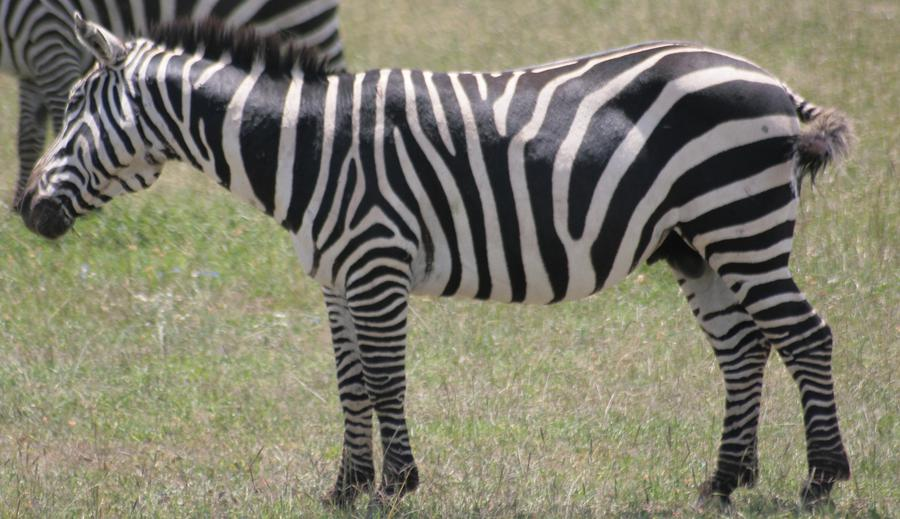zebra_plains: (286, 56, 804, 252)
